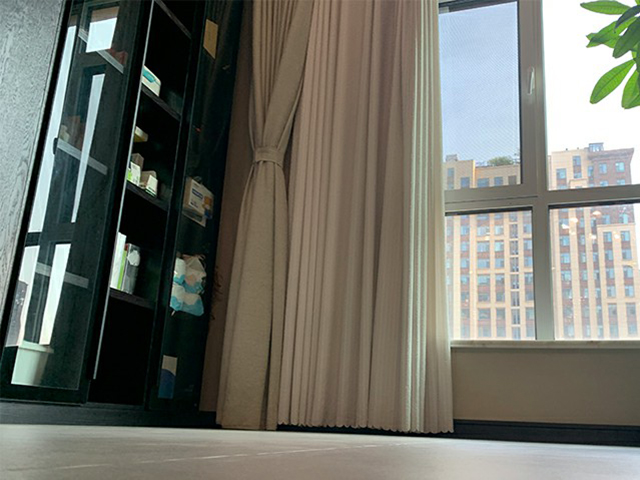cabinet: (1, 1, 239, 427)
curtain: (306, 2, 453, 433), (214, 1, 305, 433)
